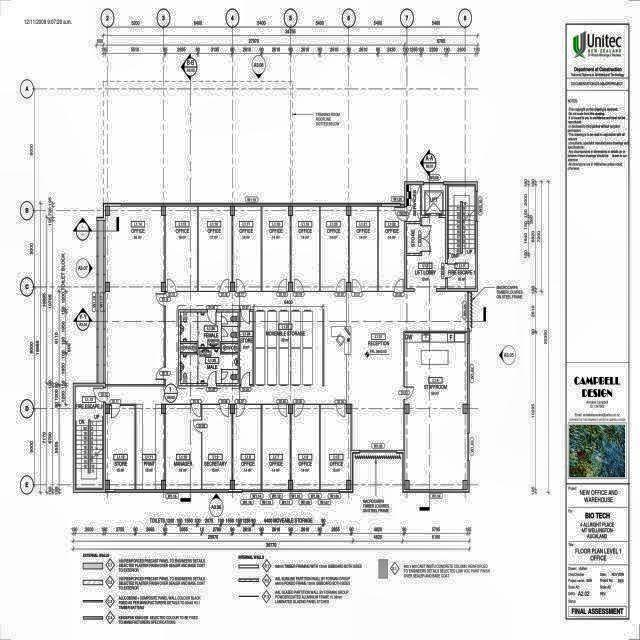room: (166, 292, 467, 450), (105, 206, 165, 385), (405, 332, 467, 489), (180, 312, 238, 384), (166, 405, 202, 489), (198, 206, 232, 291), (448, 185, 475, 288), (407, 218, 445, 288), (166, 207, 197, 291), (320, 405, 351, 489), (76, 387, 102, 487), (202, 405, 232, 489), (105, 405, 135, 489), (136, 404, 165, 489), (233, 206, 261, 291), (262, 206, 290, 291), (320, 206, 348, 291), (349, 206, 377, 291), (262, 404, 290, 489), (291, 207, 319, 291), (291, 405, 319, 489), (233, 405, 261, 489), (379, 206, 404, 291), (240, 311, 253, 384), (422, 185, 445, 215), (408, 185, 420, 221), (407, 223, 420, 253)
